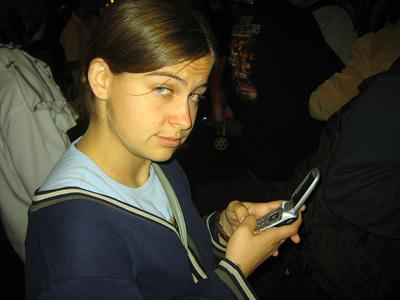person: (24, 2, 308, 300)
